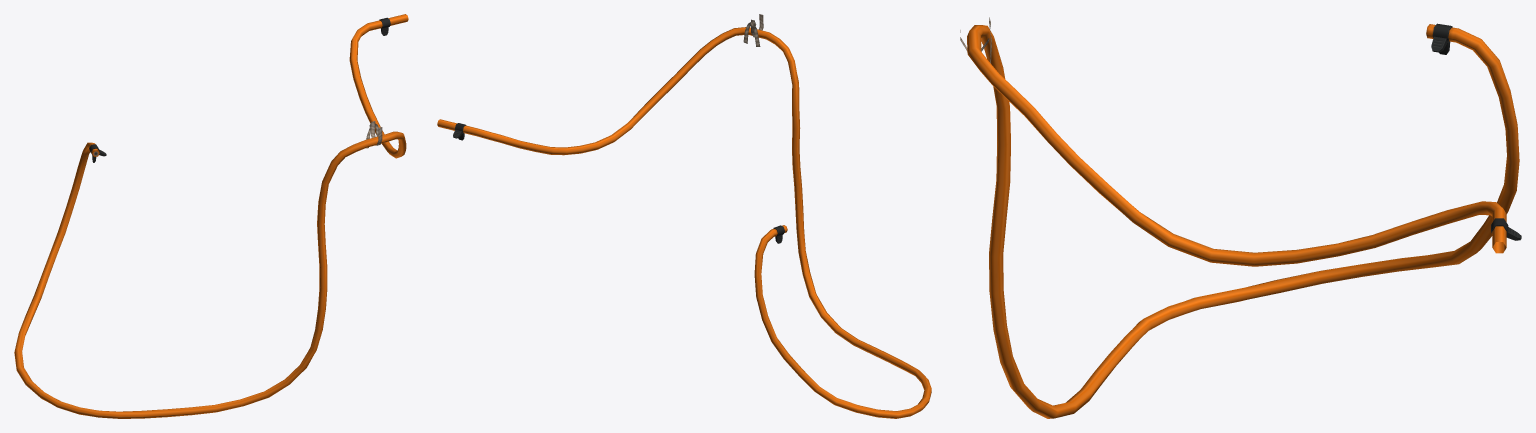
File: jsf_GasRange_04d.fbx
The picture shows the model from 3 angles, left to right: view 1: azimuth 30°, elevation 25°; view 2: azimuth 150°, elevation 25°; view 3: azimuth 270°, elevation 25°; orthographic projection. The views are drawn at different scales.
Visible parts, largest first — view 1: GasHose; view 2: GasHose; view 3: GasHose.
Part boxes in pixels (bbox=[...]): GasHose: bbox=[14, 14, 408, 418]; GasHose: bbox=[437, 14, 931, 418]; GasHose: bbox=[960, 17, 1521, 418].
Bounding box in the file's own units: 110 × 68.1 × 69.18.
